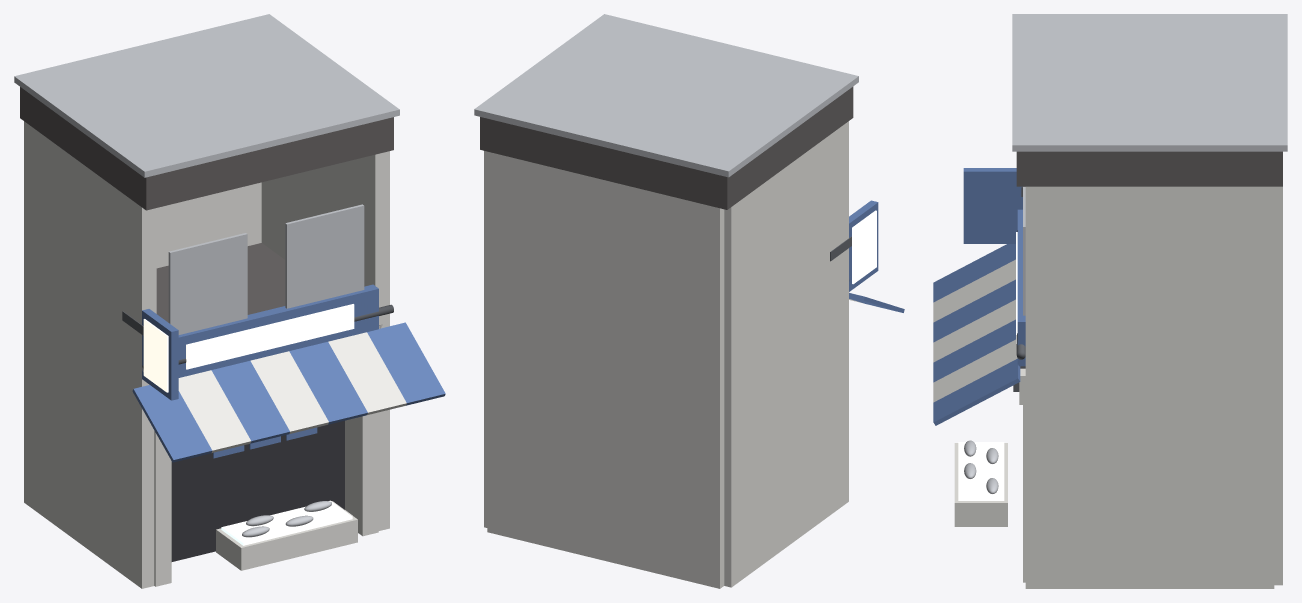
File: prop_shop_sakanaya.glb
The picture shows the model from 3 angles, left to right: view 1: azimuth 30°, elevation 25°; view 2: azimuth 150°, elevation 25°; view 3: azimuth 270°, elevation 25°; orthographic projection. The views are drawn at different scales.
Visible parts, largest first — view 1: shop_sakanaya; view 2: shop_sakanaya; view 3: shop_sakanaya.
Part boxes in pixels (box(x1,y1,x2,y2)): shop_sakanaya: box(14, 14, 445, 588); shop_sakanaya: box(474, 14, 904, 588); shop_sakanaya: box(933, 14, 1287, 588).
Size of the model in its own units: 3.73 by 5.54 by 3.99.
